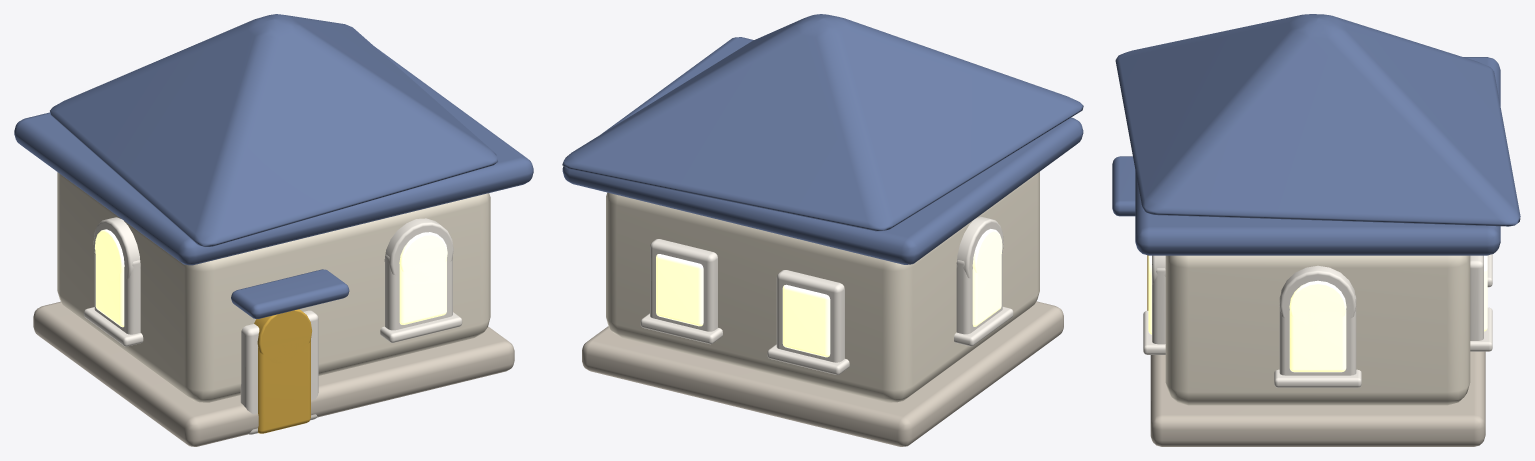
The picture shows the model from 3 angles, left to right: view 1: azimuth 30°, elevation 25°; view 2: azimuth 150°, elevation 25°; view 3: azimuth 270°, elevation 25°; orthographic projection. The views are drawn at different scales.
Visible parts, largest first — view 1: Cube; view 2: Cube; view 3: Cube.
Part boxes in pixels (bbox=[...]): Cube: bbox=[14, 14, 533, 446]; Cube: bbox=[562, 14, 1083, 446]; Cube: bbox=[1112, 14, 1520, 446].
Bounding box in the file's own units: 0.56 × 0.5055 × 0.536.
